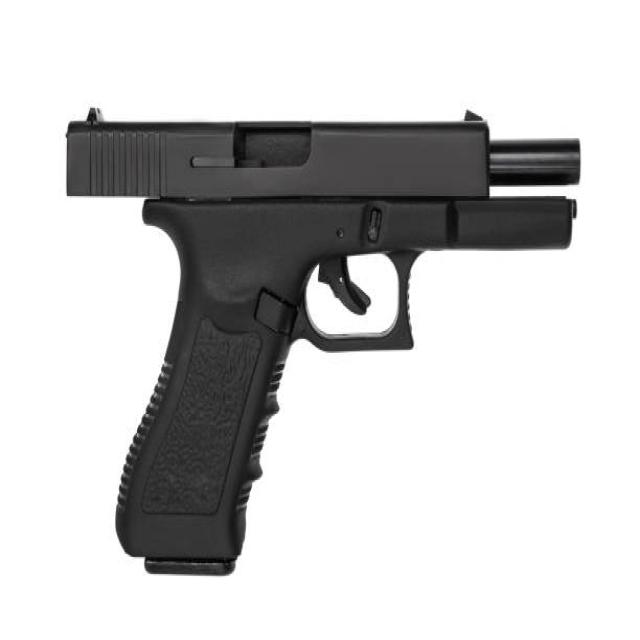pistol: (60, 100, 590, 592)
